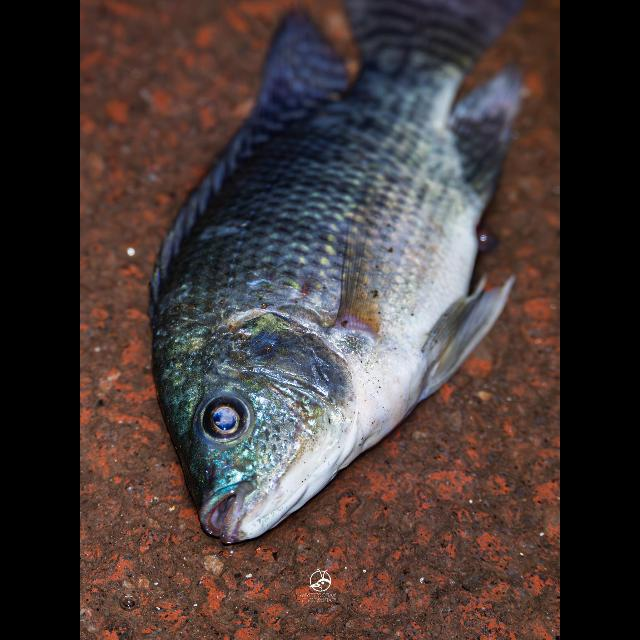Tilapia: (150, 6, 522, 536)
